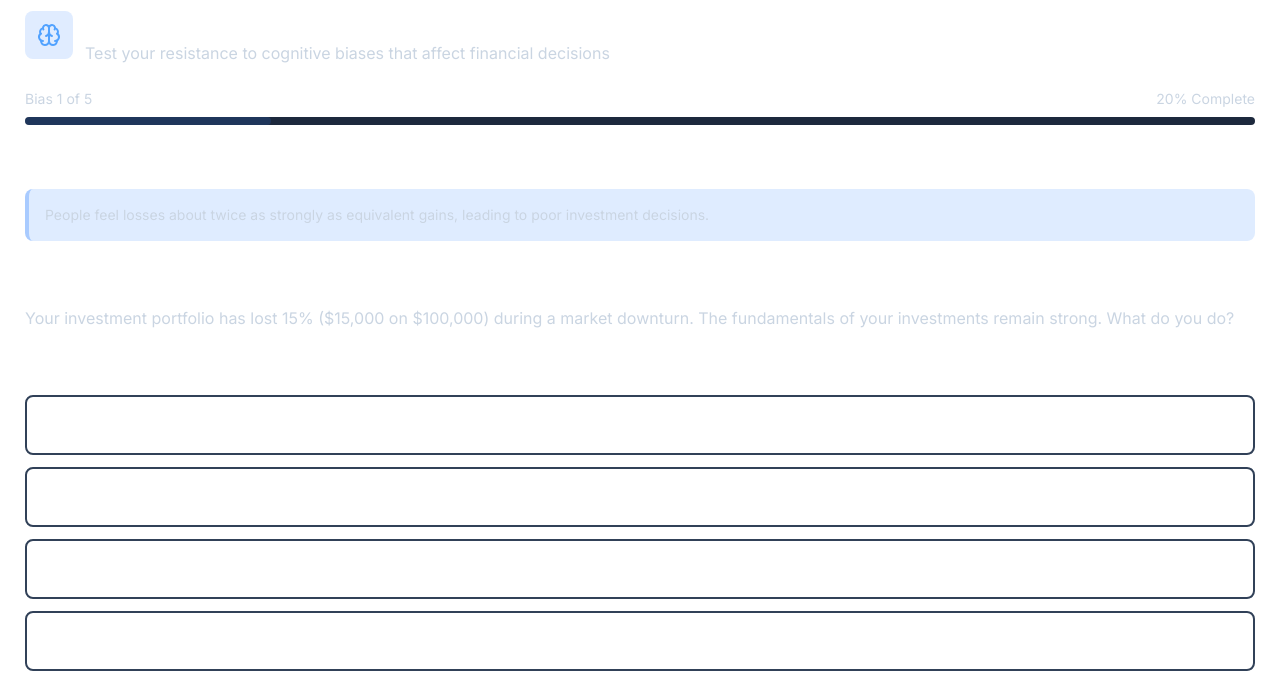
BehavioralFinanceSimulator › progresses through multiple bias scenarios
The image size is (1280, 700).
Complete first bias
Click the button "Hold steady and continue regular investing" at x=207, y=569, box [25,539,1255,599]
(page scrolled)
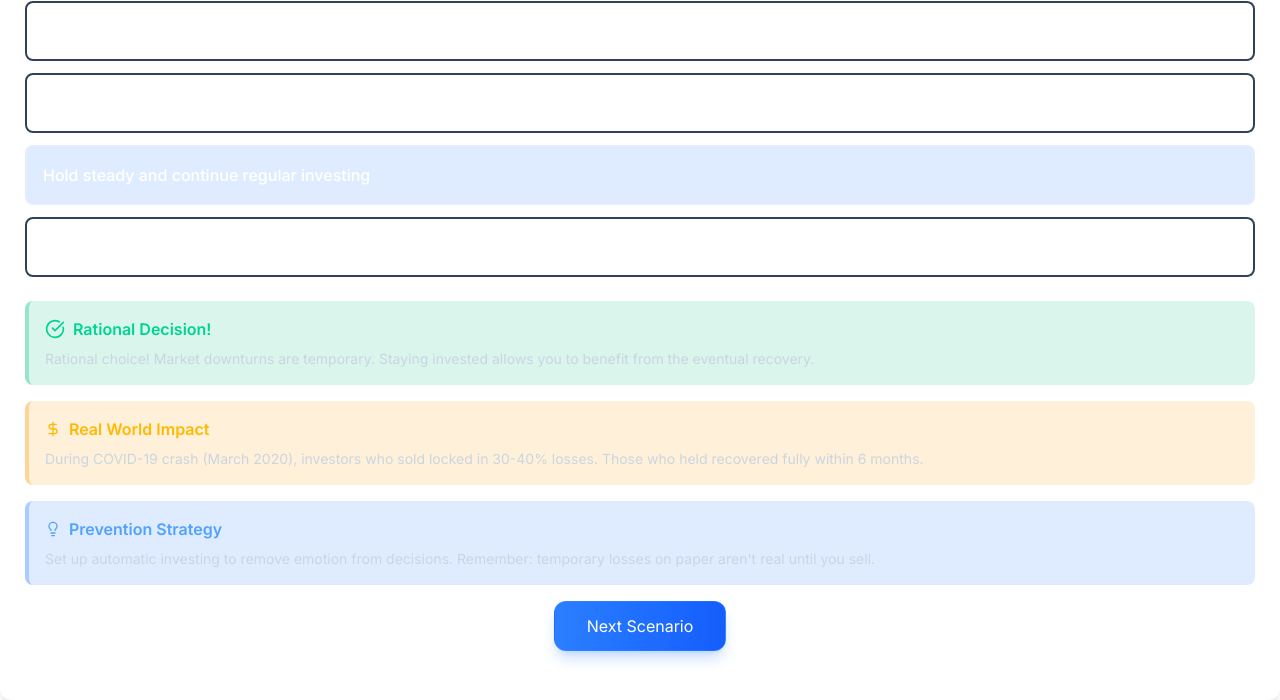
expect the button "Next Scenario" is shown: met
Move to next bias
Click the button "Next Scenario" at x=640, y=626, box [554,601,726,651]
(page scrolled)
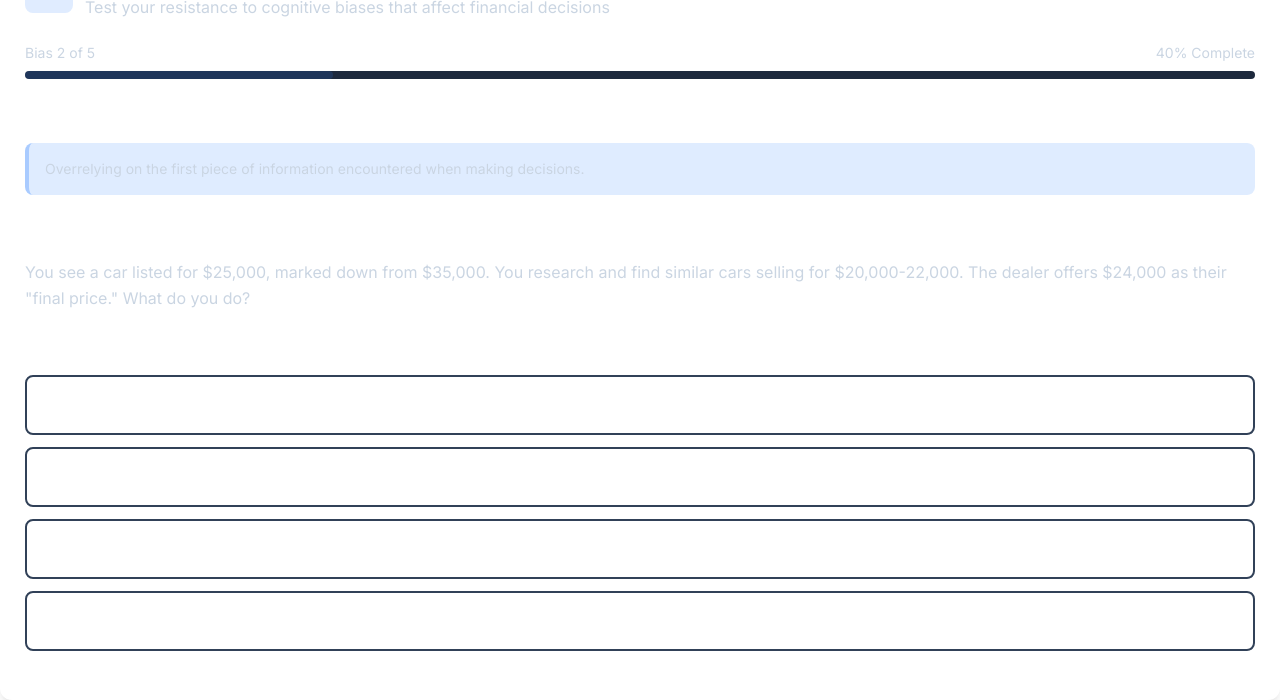
expect the text "Bias 2 of 5" is shown: met, box [25,43,95,63]
